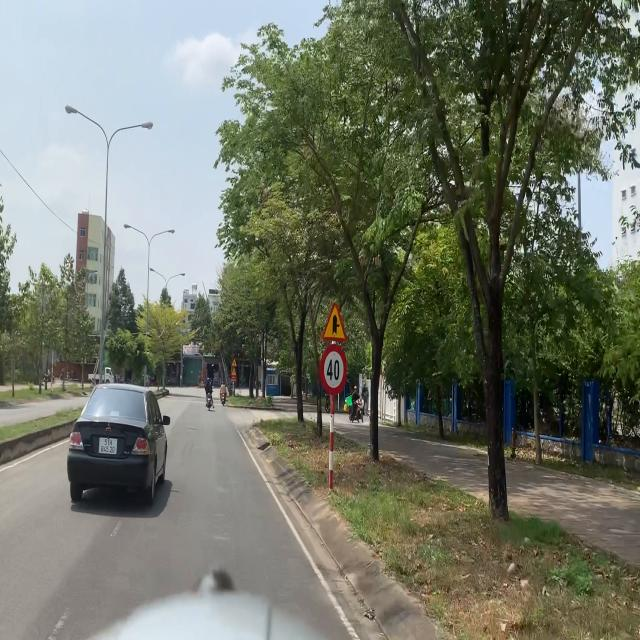Duong giao nhau: (231, 358, 237, 366)
Giao voi duong khong uu tien: (323, 302, 348, 342)
Nguoi di bo cat ngang: (231, 367, 237, 376)
Toc do toi da: (322, 346, 346, 394)
